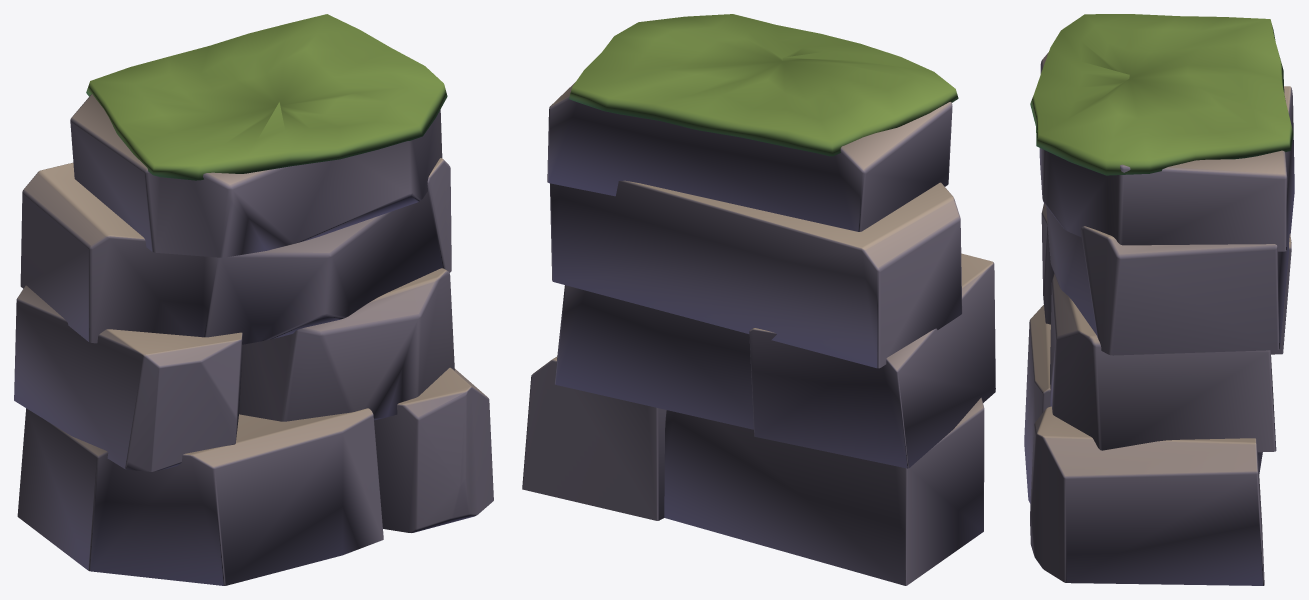
Rendered from CliffChunk1.fbx.
3 views of the same model, side by side, from view 1: azimuth 30°, elevation 25°; view 2: azimuth 150°, elevation 25°; view 3: azimuth 270°, elevation 25° (orthographic). The views are drawn at different scales.
Parts seen in each view (by area): view 1: CliffChunk1; view 2: CliffChunk1; view 3: CliffChunk1.
Part boxes in pixels (<box>): CliffChunk1: <box>14,14,493,585</box>; CliffChunk1: <box>522,14,995,585</box>; CliffChunk1: <box>1024,14,1294,585</box>.
Bounding box in the file's own units: 5.75 × 6.06 × 3.52.
